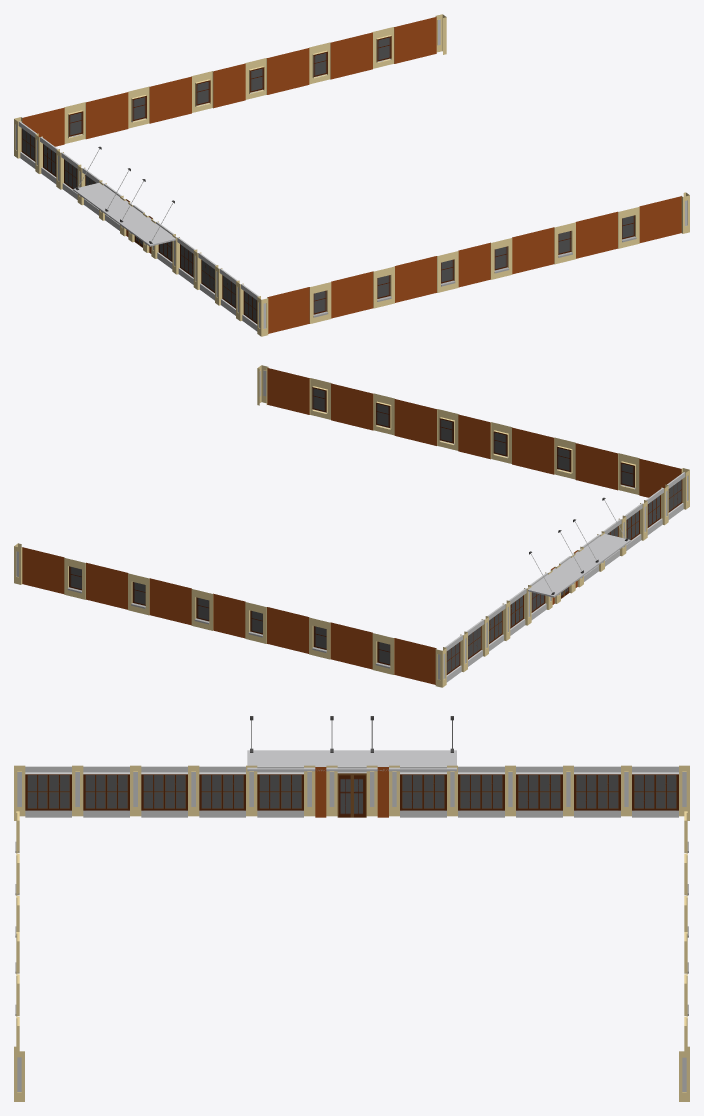
Rendered from BuildingBig3_1.fbx.
The picture shows the model from 3 angles, top to bottom: view 1: azimuth 30°, elevation 25°; view 2: azimuth 150°, elevation 25°; view 3: azimuth 270°, elevation 25°; orthographic projection. The views are drawn at different scales.
Parts seen in each view (by area): view 1: BuildingBig3_1; view 2: BuildingBig3_1; view 3: BuildingBig3_1.
Boxes of the visible parts, x1,y1,x2,y2 form: BuildingBig3_1: (14, 14, 689, 336); BuildingBig3_1: (14, 365, 689, 687); BuildingBig3_1: (14, 716, 689, 1101).
Size of the model in its own units: 6431 by 978 by 6061.
